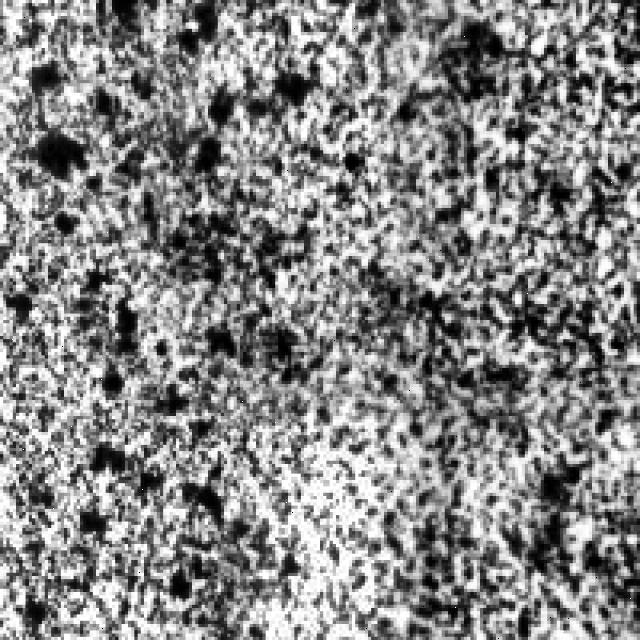Rolled_in_Scale: (0, 6, 630, 630)
